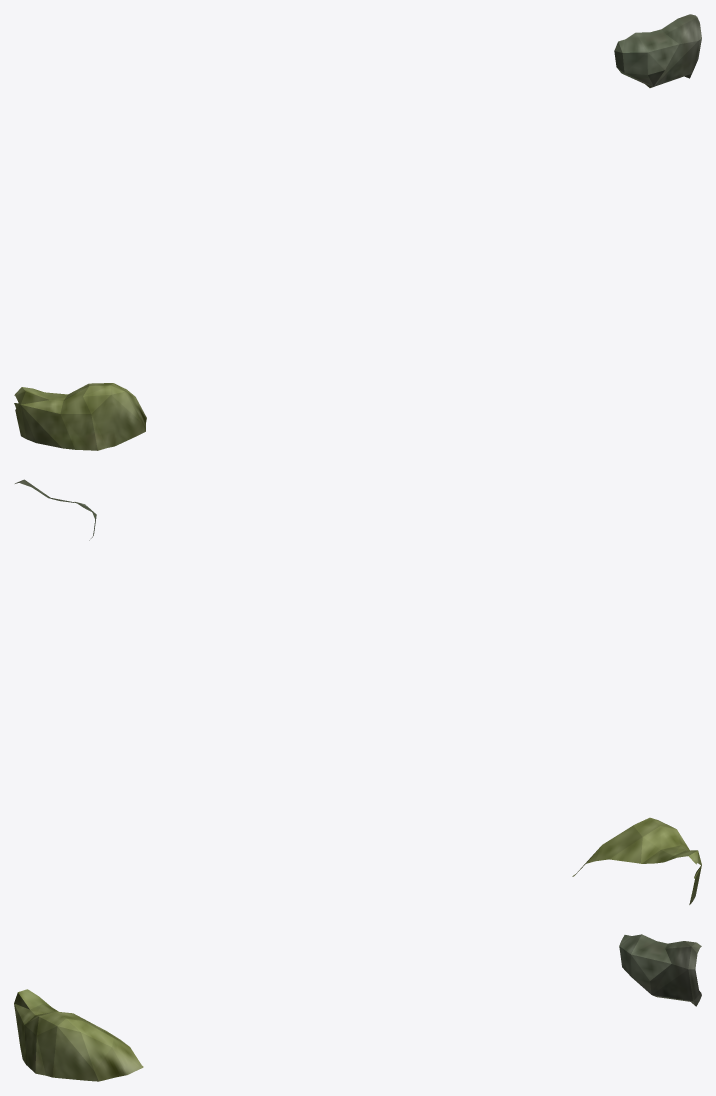
The picture shows the model from 3 angles, top to bottom: view 1: azimuth 30°, elevation 25°; view 2: azimuth 150°, elevation 25°; view 3: azimuth 330°, elevation 25°; orthographic projection.
Size of the model in its own units: 5.9 by 2.14 by 0.5121.
Materials: 1 (1 with a texture image).
